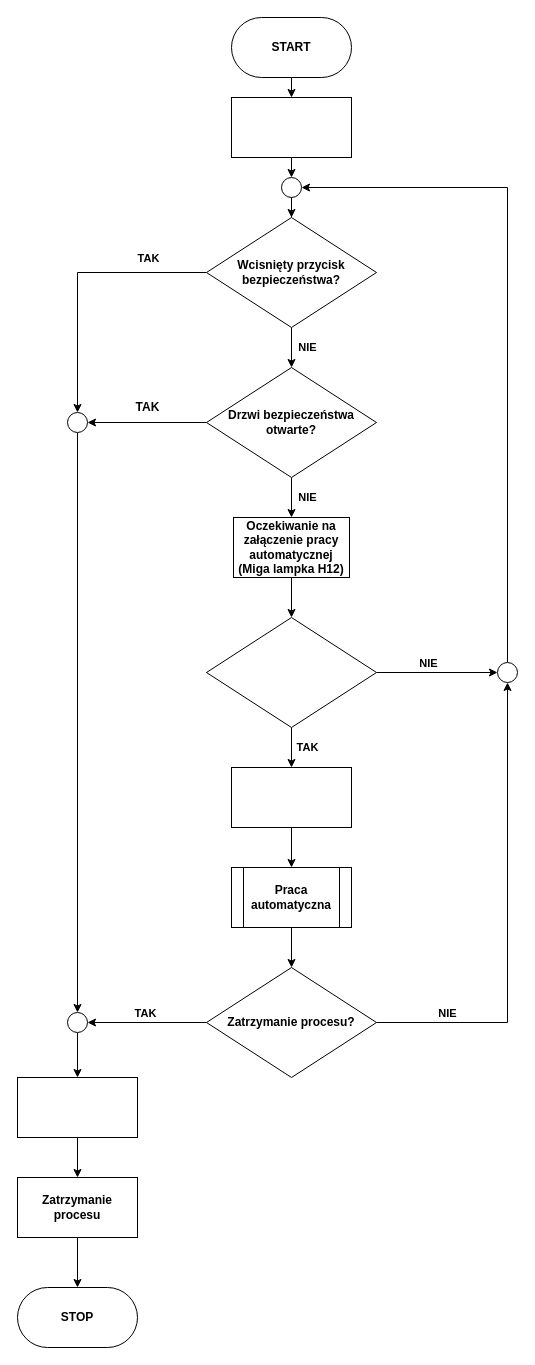
The diagram is 535 pixels wide and 1365 high, and some of its shapes have lost their labels. Here are the shapes that lost their labels. From the top down, the centre of each, then its label:
At point 291,127: "Załączenie głównego zasilania".
At point 291,672: "Praca automatyczna?".
At point 291,797: "Zapala się lampka H13 sterowanie automatyczne".
At point 77,1107: "Zapala się lampka H11".
